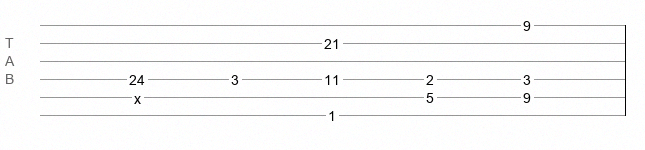1: (328, 108, 336, 118)
11: (324, 72, 340, 82)
2: (426, 72, 434, 82)
21: (324, 36, 340, 46)
24: (129, 72, 145, 82)
3: (231, 72, 239, 82), (523, 72, 531, 82)
5: (426, 90, 434, 100)
9: (523, 90, 531, 100), (523, 18, 531, 28)
x: (134, 91, 141, 99)
